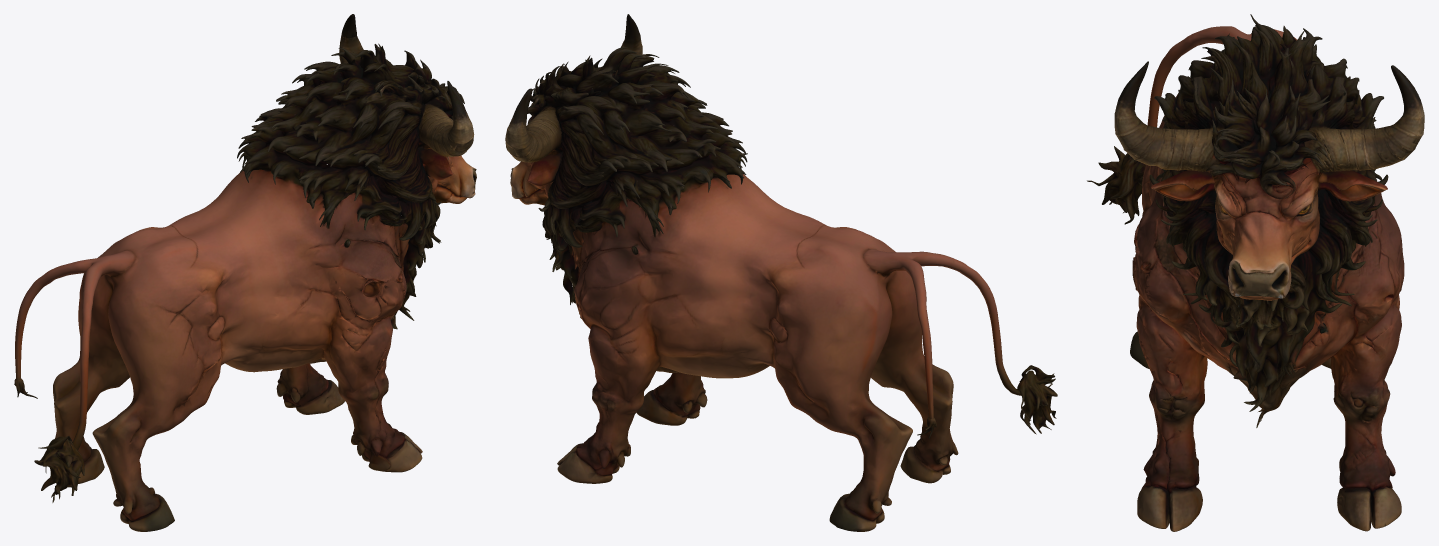
File: yayu.glb
The picture shows the model from 3 angles, left to right: view 1: azimuth 30°, elevation 25°; view 2: azimuth 150°, elevation 25°; view 3: azimuth 270°, elevation 25°; orthographic projection. The views are drawn at different scales.
Visible parts, largest first — view 1: tripo_node_643d7ef8-e7e5-4292-bfc6-a813230234ad; view 2: tripo_node_643d7ef8-e7e5-4292-bfc6-a813230234ad; view 3: tripo_node_643d7ef8-e7e5-4292-bfc6-a813230234ad.
Part boxes in pixels (bbox=[...]): tripo_node_643d7ef8-e7e5-4292-bfc6-a813230234ad: bbox=[14, 14, 476, 531]; tripo_node_643d7ef8-e7e5-4292-bfc6-a813230234ad: bbox=[505, 14, 1057, 531]; tripo_node_643d7ef8-e7e5-4292-bfc6-a813230234ad: bbox=[1087, 14, 1424, 531].
Size of the model in its own units: 0.9794 by 0.7485 by 0.4655.
1 material, 1 textured.
